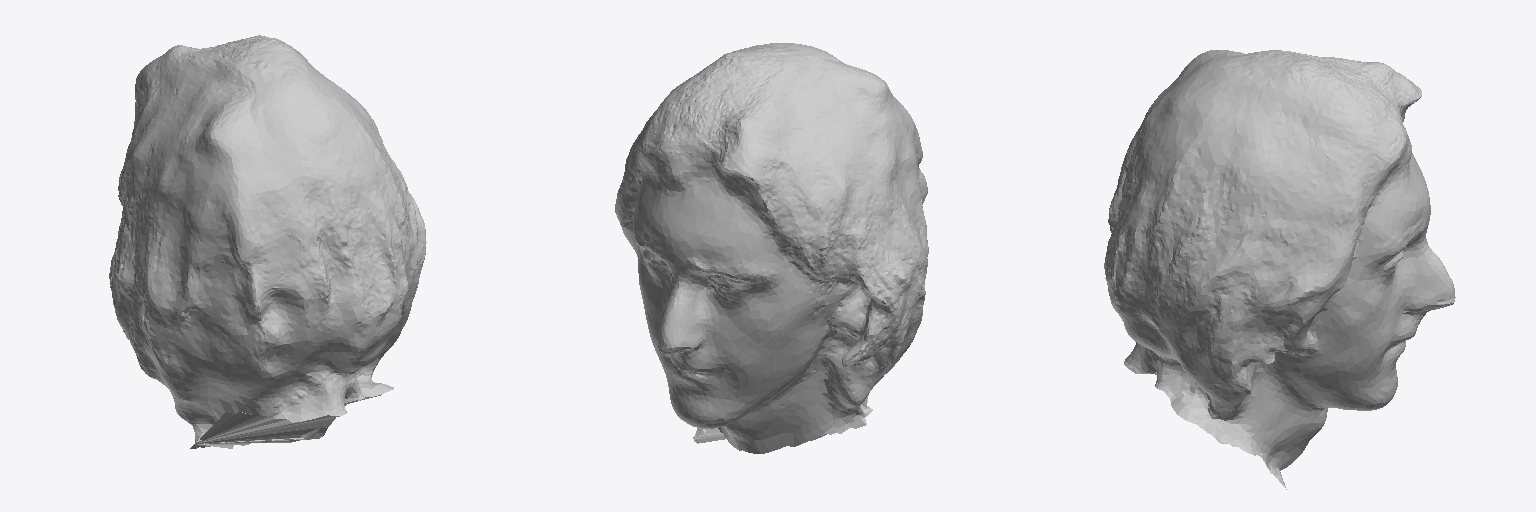
The model's file is HeadTom2.obj.
3 views of the same model, side by side, from view 1: azimuth 30°, elevation 25°; view 2: azimuth 150°, elevation 25°; view 3: azimuth 270°, elevation 25° (orthographic).
Parts seen in each view (by area): view 1: Mesh_0; view 2: Mesh_0; view 3: Mesh_0.
Part boxes in pixels (left/top/right/bottom): Mesh_0: left=109, top=35, right=426, bottom=448; Mesh_0: left=615, top=43, right=928, bottom=453; Mesh_0: left=1104, top=50, right=1455, bottom=489.
Bounding box in the file's own units: 3.3 × 4.62 × 3.65.